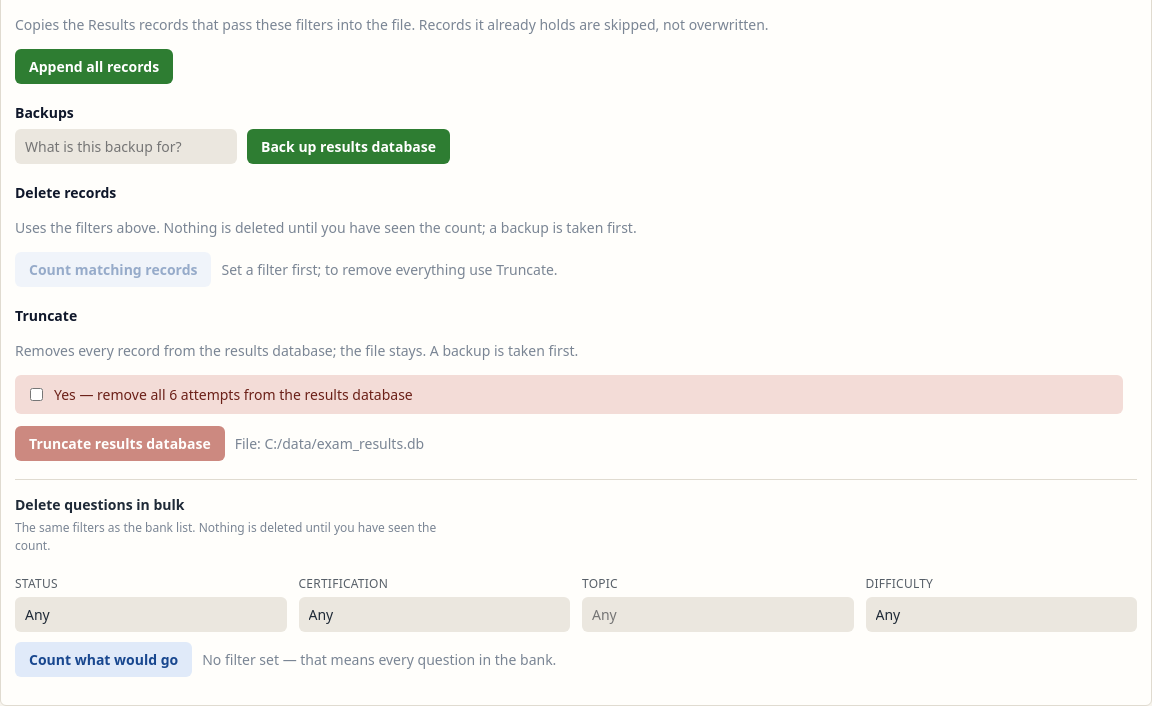
Test case: counting before deleting › deletes nothing while counting
(page scrolled)
Click the button "Count what would go": (104, 660) [15,642,192,677]
(page scrolled)
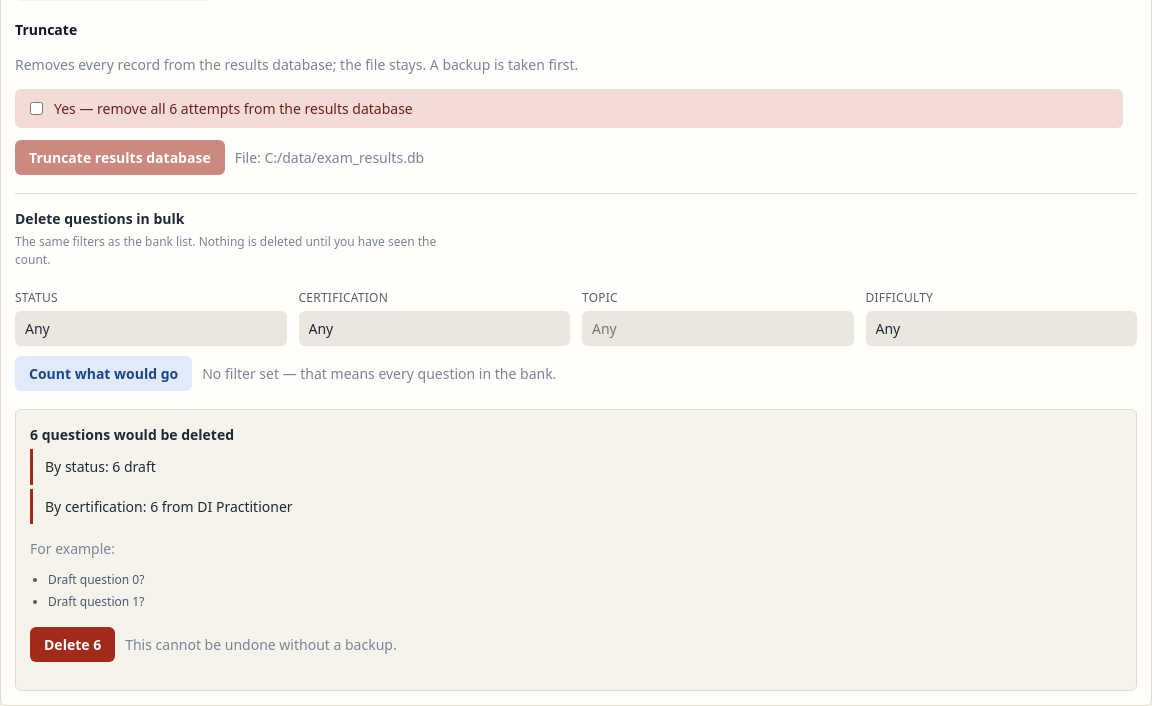
Now the heading "6 questions would be deleted" is shown, box [30,425,234,444]
